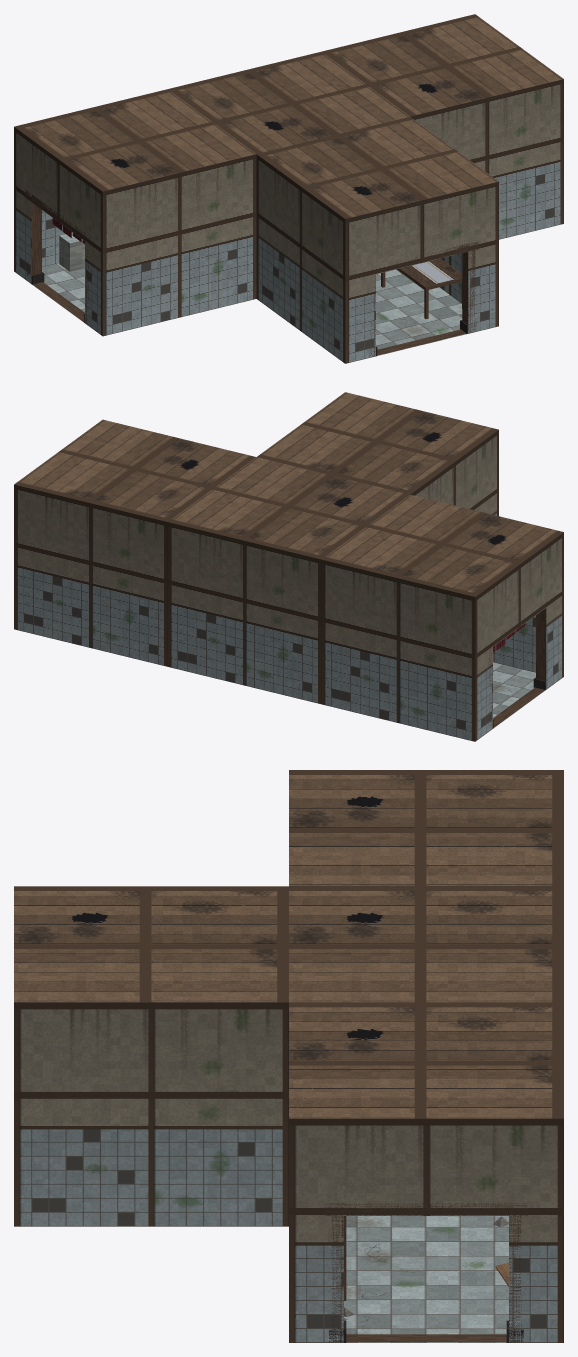
3 views of the same model, one above another, from view 1: azimuth 30°, elevation 25°; view 2: azimuth 150°, elevation 25°; view 3: azimuth 270°, elevation 25° (orthographic). The views are drawn at different scales.
Visible parts, largest first — view 1: f_B, f_B_Deco; view 2: f_B, f_B_Deco; view 3: f_B, f_B_Deco.
Boxes of the visible parts, x1,y1,x2,y2 form: f_B: [14, 14, 563, 363]; f_B_Deco: [27, 218, 476, 356]; f_B: [14, 392, 563, 741]; f_B_Deco: [493, 623, 546, 728]; f_B: [14, 770, 563, 1342]; f_B_Deco: [329, 1216, 523, 1342].
Bounding box in the file's own units: 1.33 × 2 × 0.6.
Materials: 4 (4 with a texture image).
